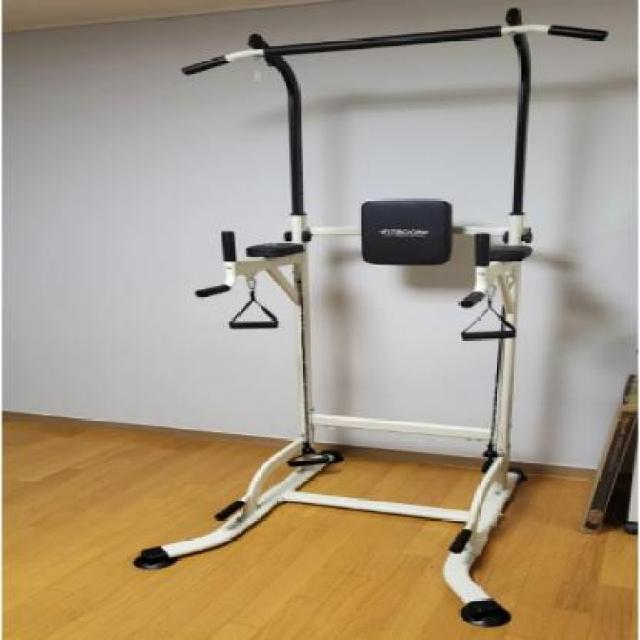chinning dipping: (134, 8, 611, 628)
